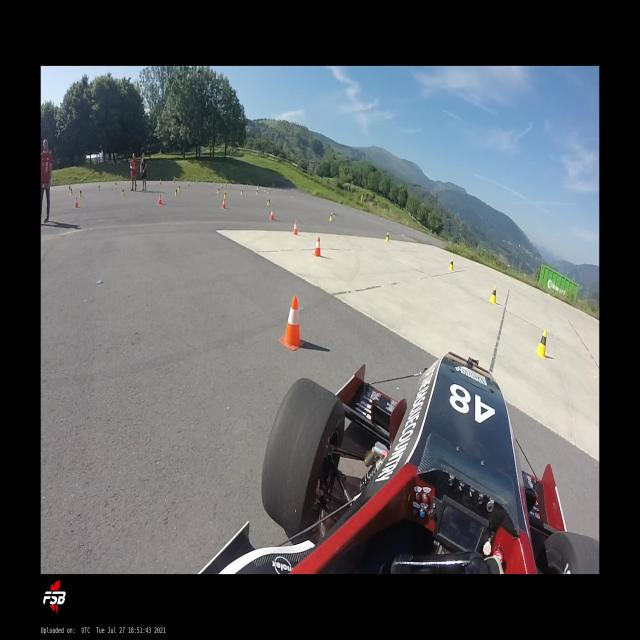orange_cone: (279, 296, 305, 351), (313, 237, 322, 257), (292, 221, 299, 235), (221, 198, 226, 209), (270, 209, 274, 221), (158, 194, 162, 205), (75, 198, 79, 208), (188, 182, 190, 186), (160, 180, 161, 184)
yellow_cone: (535, 329, 547, 359), (489, 285, 497, 304), (448, 258, 454, 270), (329, 212, 334, 221), (386, 232, 390, 242), (121, 187, 125, 196), (223, 190, 227, 198), (266, 198, 270, 205), (70, 187, 73, 195), (98, 184, 101, 192), (174, 188, 177, 196), (79, 189, 82, 197), (217, 188, 220, 194), (240, 189, 243, 195), (178, 184, 180, 192), (255, 190, 258, 194), (264, 187, 266, 192), (268, 189, 269, 194)
